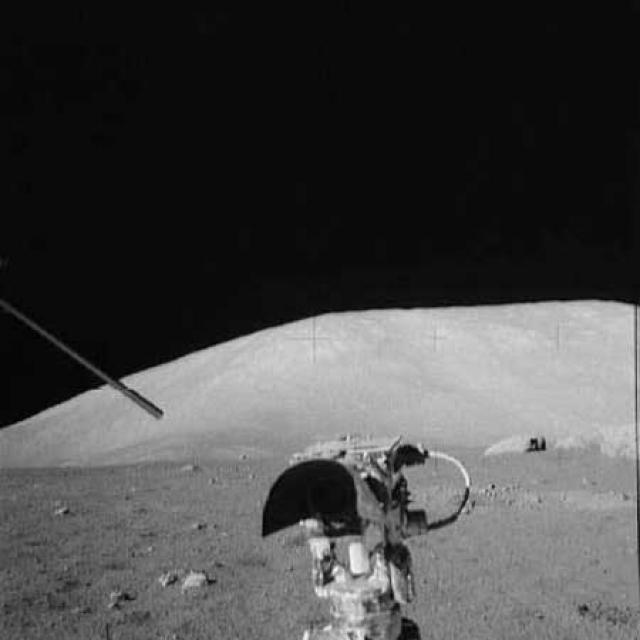artifact: (256, 426, 475, 638), (2, 296, 167, 423)
crater: (465, 482, 629, 518)
rock: (552, 423, 640, 459), (478, 431, 548, 460), (182, 568, 212, 591), (156, 566, 180, 590)
